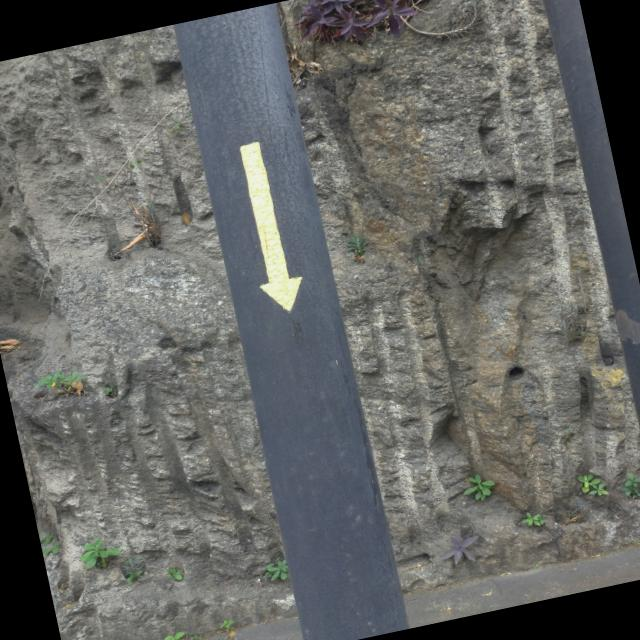gas: (173, 2, 410, 640)
